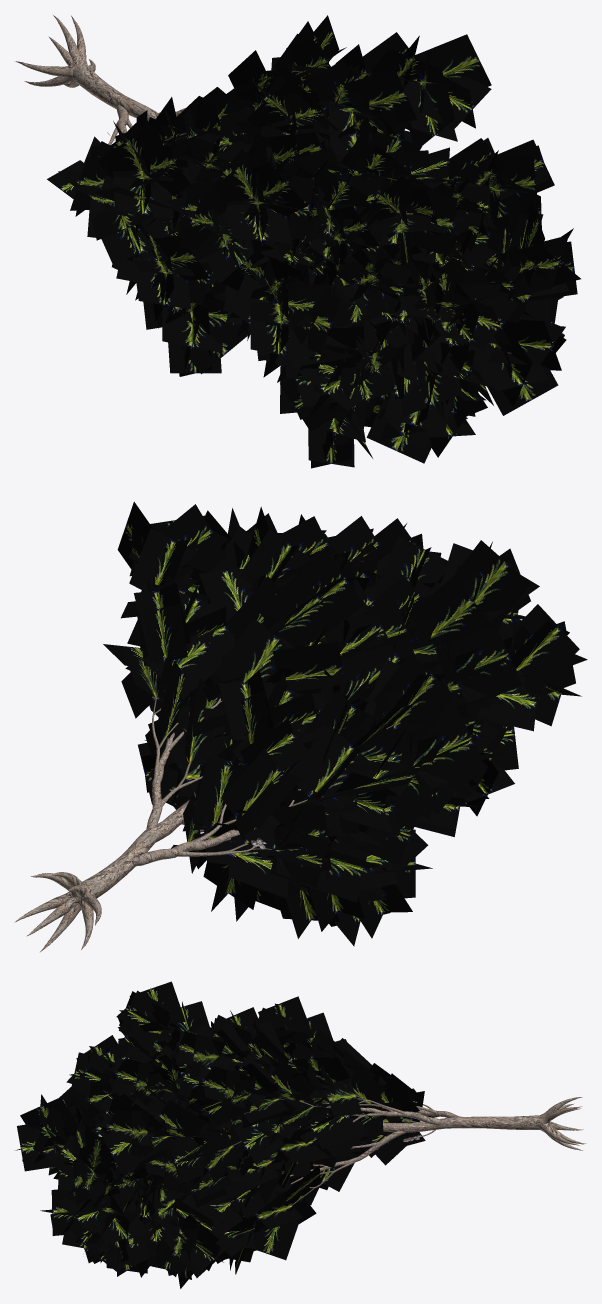
3 renders of one model, top to bottom at view 1: azimuth 30°, elevation 25°; view 2: azimuth 150°, elevation 25°; view 3: azimuth 270°, elevation 25°, orthographic. The views are drawn at different scales.
Parts seen in each view (by area): view 1: OC56_3; view 2: OC56_3; view 3: OC56_3.
Part boxes in pixels (left/top/right/bottom): OC56_3: left=15, top=15, right=580, bottom=468; OC56_3: left=14, top=501, right=587, bottom=951; OC56_3: left=15, top=981, right=586, bottom=1288.
Size of the model in its own units: 1.37 by 1.32 by 2.5.
Materials: 7 (7 with a texture image).
